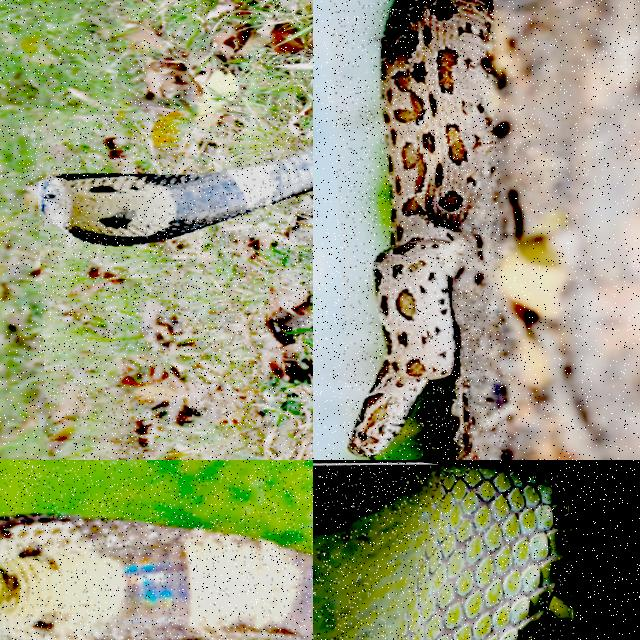Daboia siamensis: (348, 0, 491, 459)
Naja kaouthia: (39, 151, 312, 246)
Naja siamensis: (0, 514, 312, 639)
Trimeresurus macrops: (313, 465, 572, 639)
